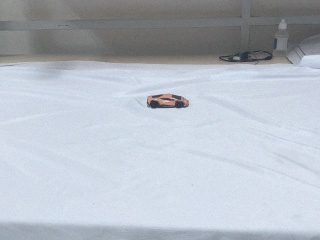bottle: (274, 19, 289, 58)
toy_car: (146, 93, 190, 109)
